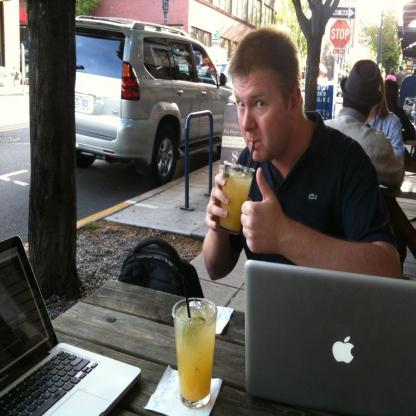board: (246, 258, 416, 416), (0, 234, 142, 416)
